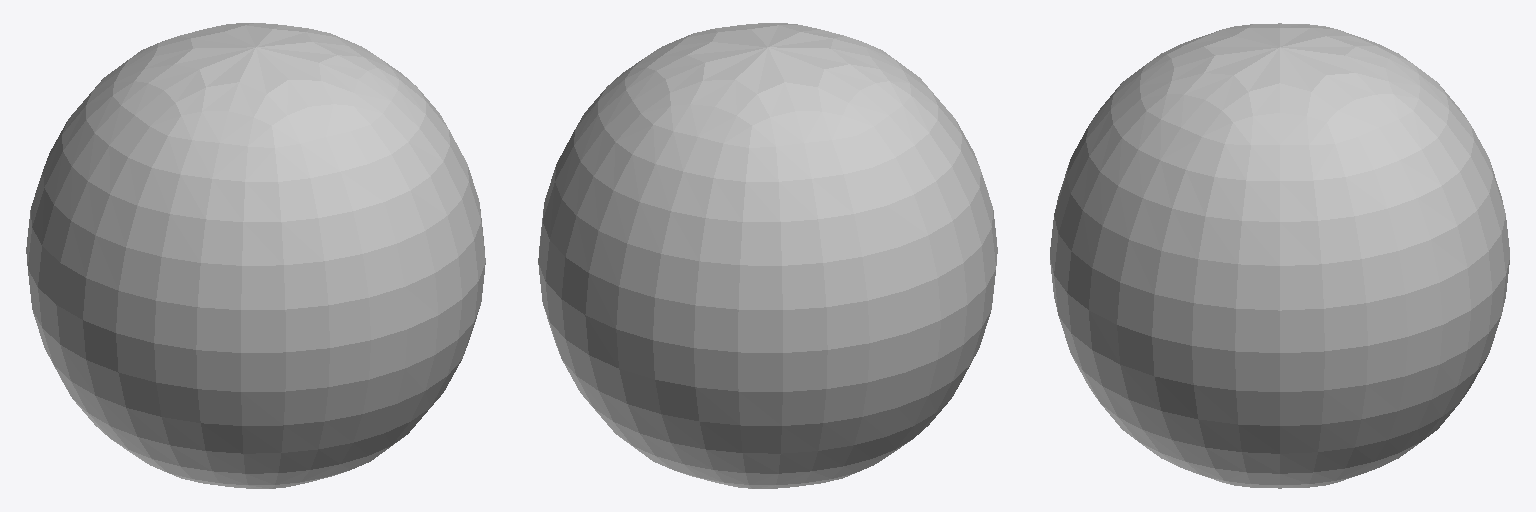
File: beachball.obj
3 renders of one model, left to right at view 1: azimuth 30°, elevation 25°; view 2: azimuth 150°, elevation 25°; view 3: azimuth 270°, elevation 25°, orthographic.
Parts seen in each view (by area): view 1: Sphere; view 2: Sphere; view 3: Sphere.
Boxes of the visible parts, <box> form: Sphere: <box>26,23,485,488</box>; Sphere: <box>538,23,997,488</box>; Sphere: <box>1050,23,1509,488</box>.
Size of the model in its own units: 1.79 by 1.79 by 1.79.